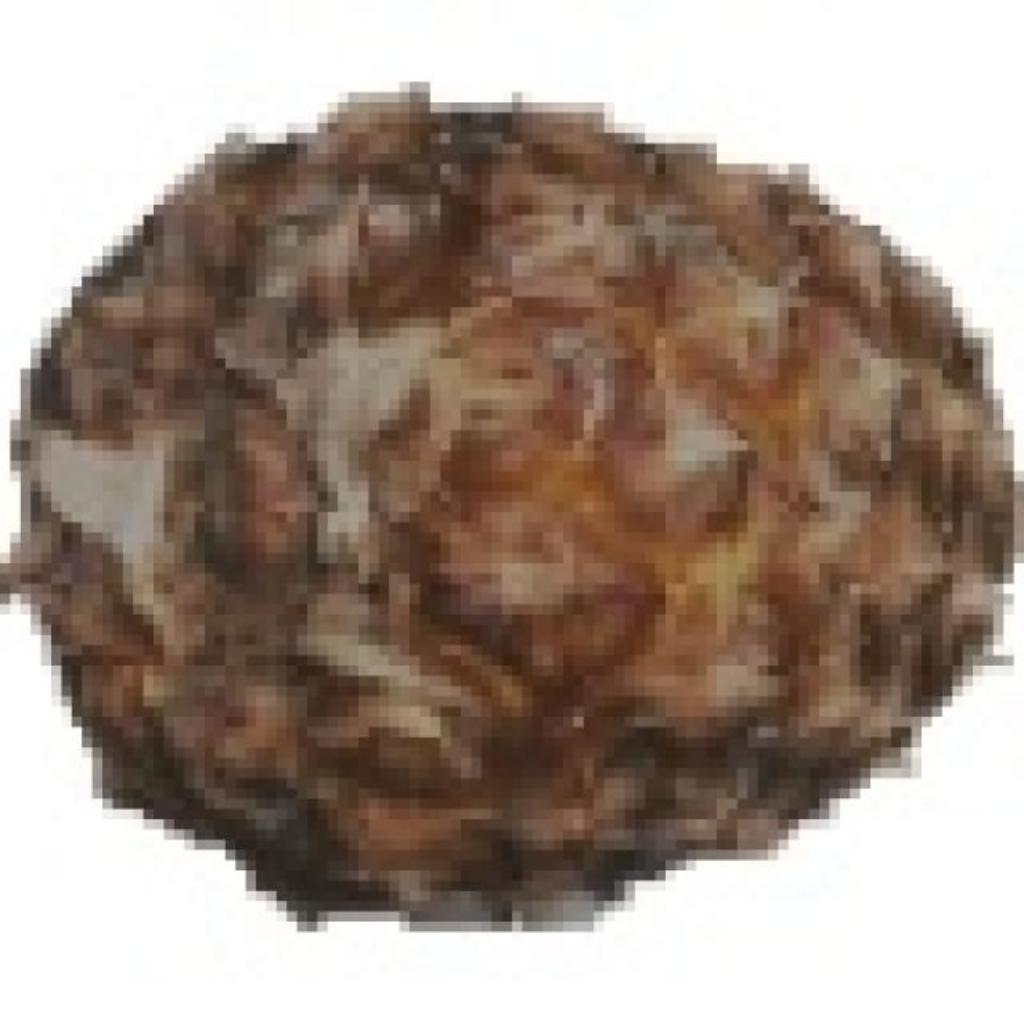pineapple: (31, 82, 1024, 901)
